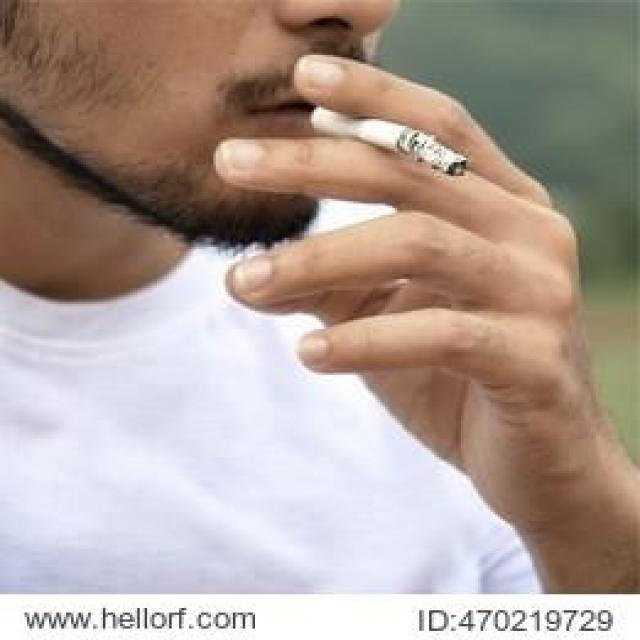Сигарета: (312, 103, 468, 176)
